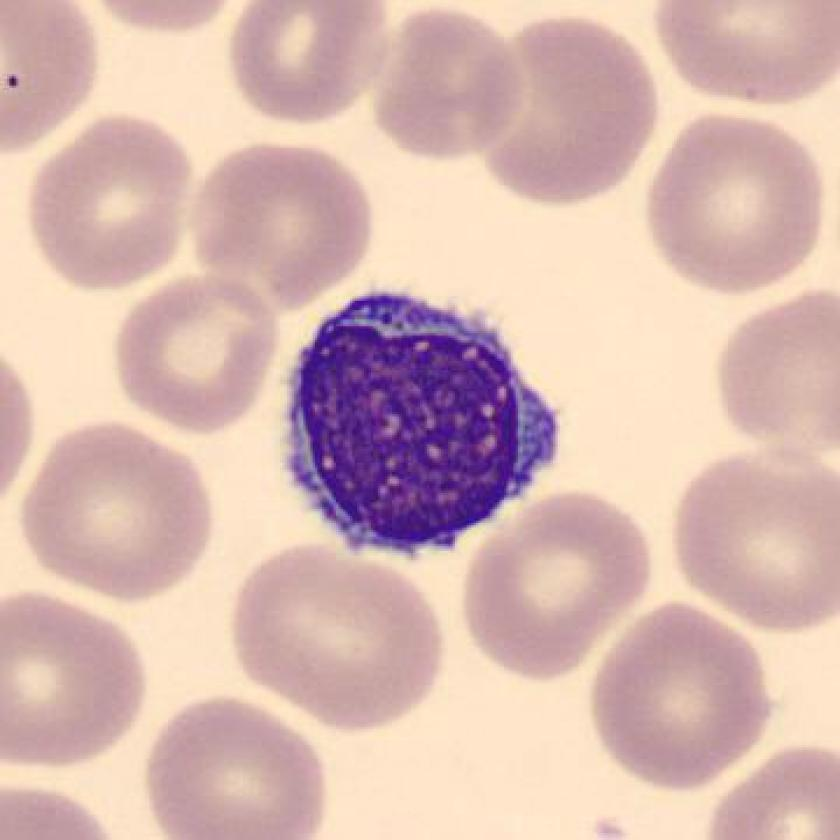lymphocyte: (267, 276, 570, 566)
